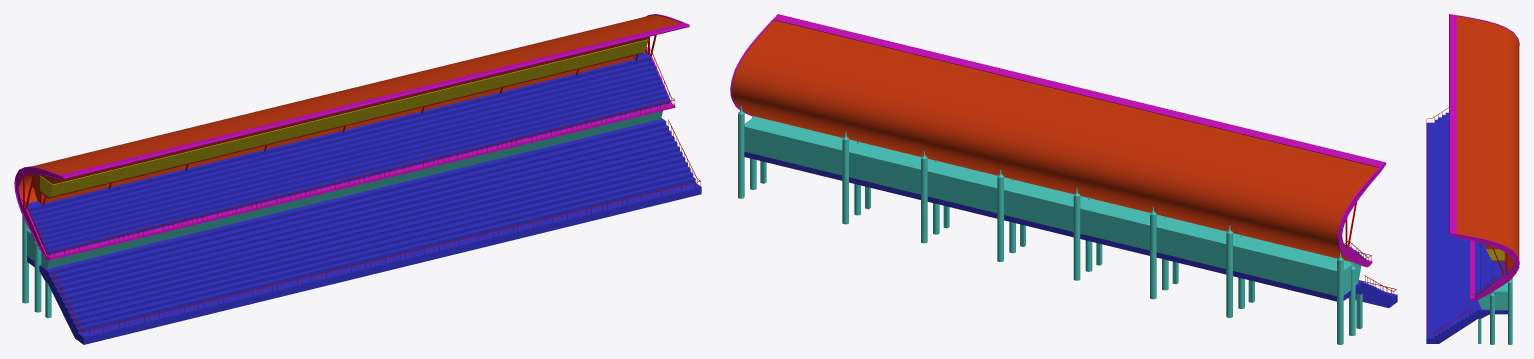
File: Tribune_3.fbx
3 views of the same model, side by side, from view 1: azimuth 30°, elevation 25°; view 2: azimuth 150°, elevation 25°; view 3: azimuth 270°, elevation 25° (orthographic). The views are drawn at different scales.
Parts seen in each view (by area): view 1: Tribune_3; view 2: Tribune_3; view 3: Tribune_3.
Part boxes in pixels (bbox=[...]): Tribune_3: bbox=[14, 14, 701, 344]; Tribune_3: bbox=[730, 14, 1397, 344]; Tribune_3: bbox=[1426, 14, 1519, 344].
Size of the model in its own units: 16230 by 3881 by 2928.
